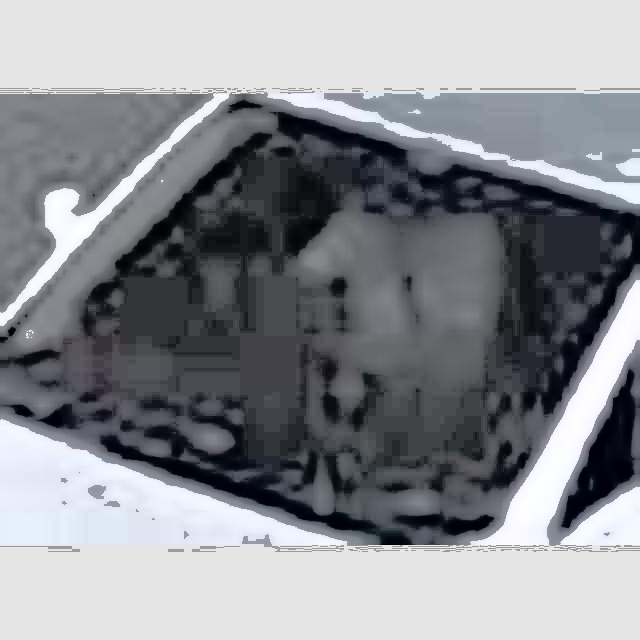pakai: (233, 184, 497, 388)
